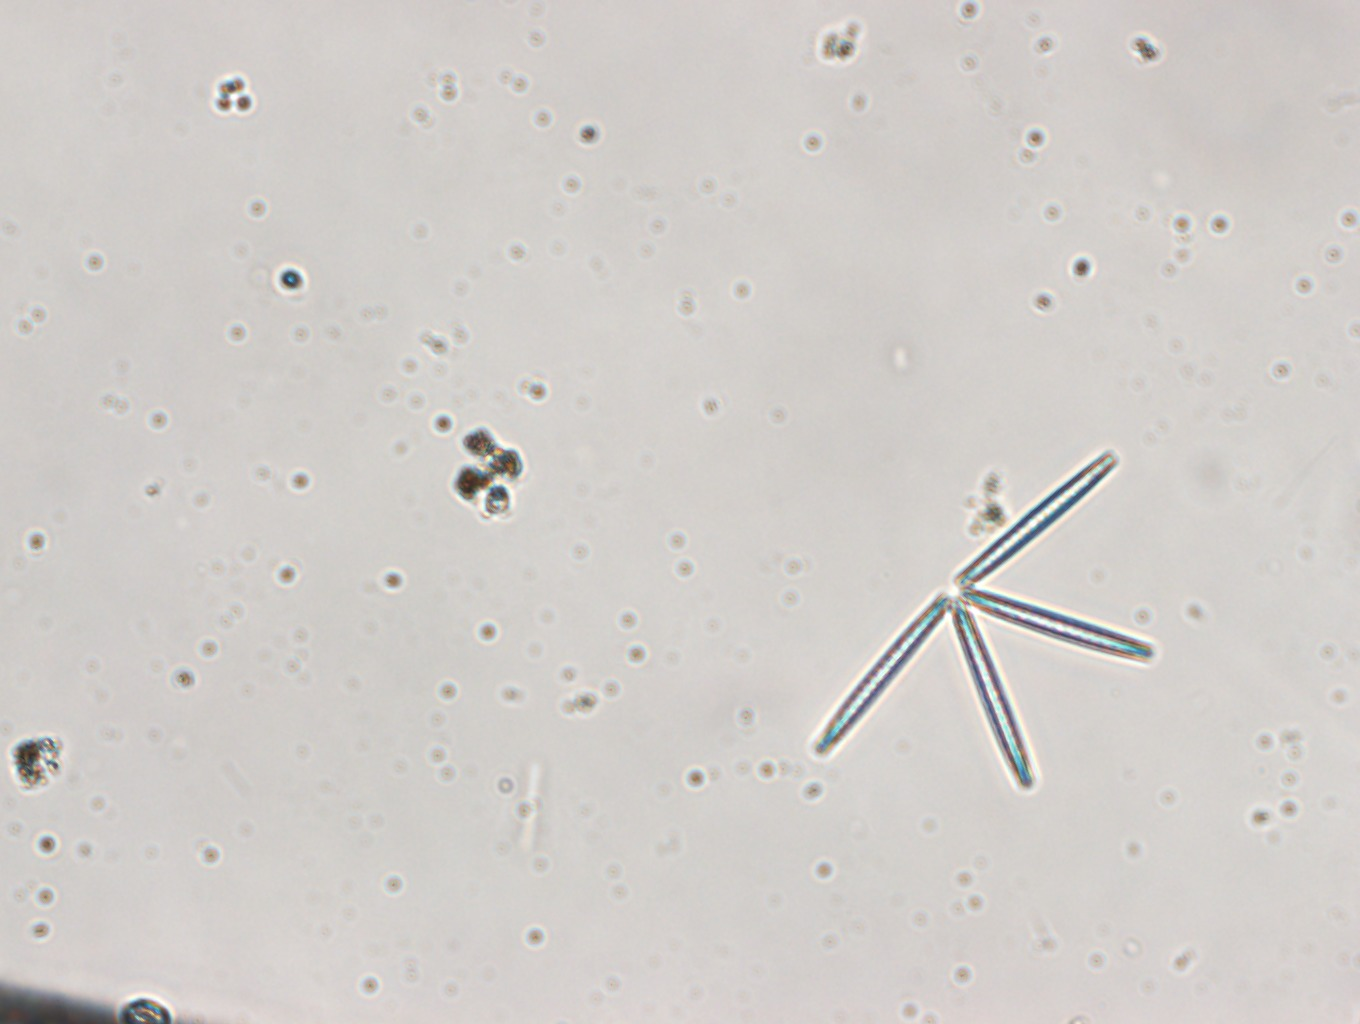thalassionema nitzschioides: (816, 445, 1153, 793)
